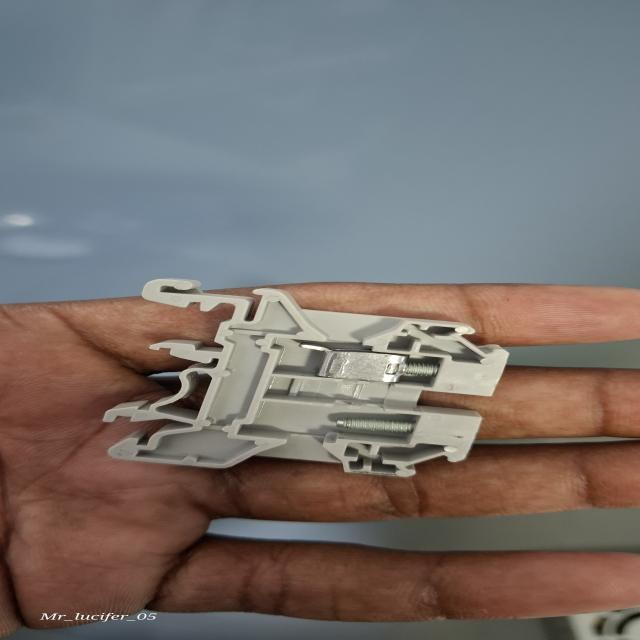Reject: (86, 272, 506, 478)
